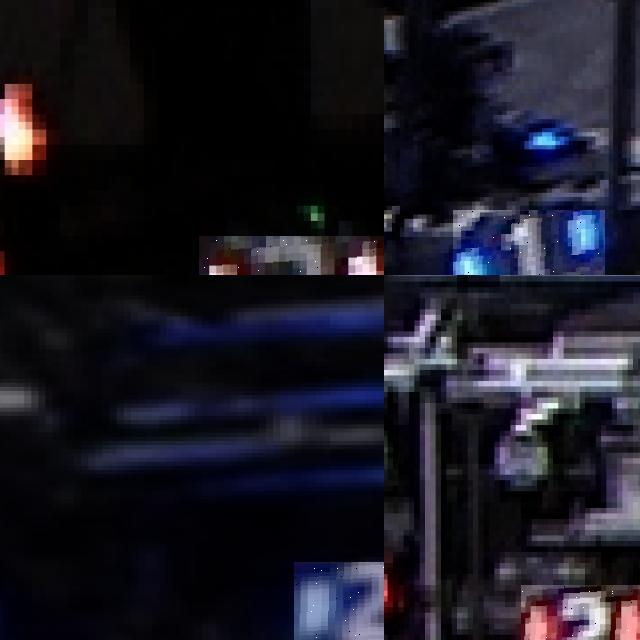B1: (453, 210, 604, 275)
B2: (294, 561, 384, 640)
R2: (199, 236, 384, 275), (521, 585, 640, 640)
